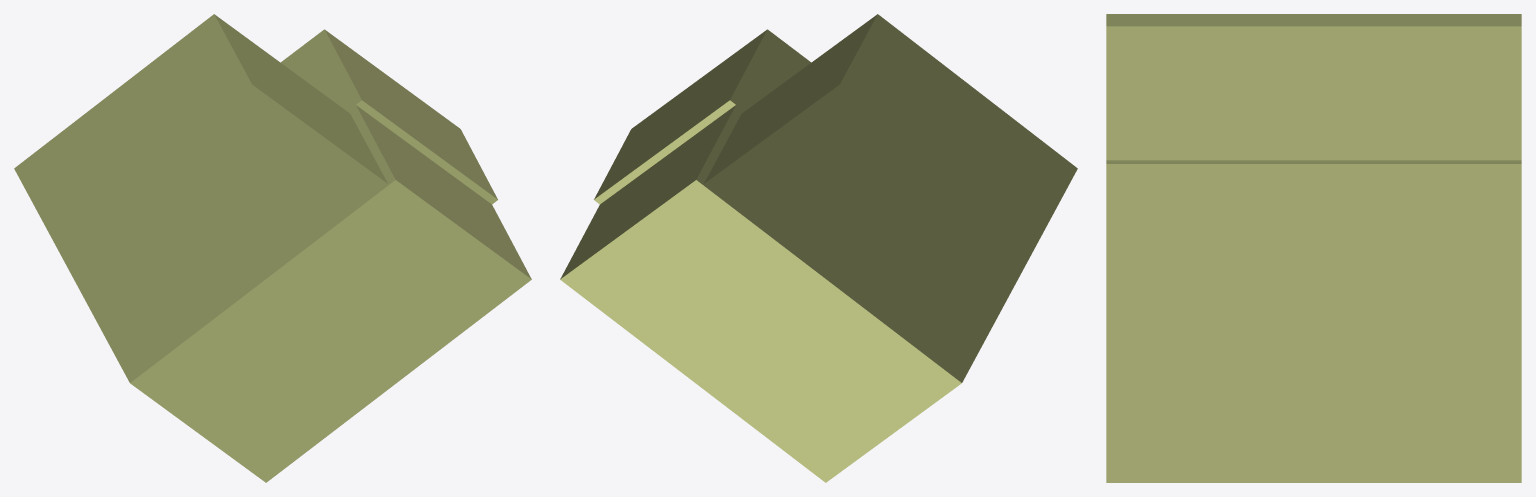
3 renders of one model, left to right at view 1: azimuth 30°, elevation 25°; view 2: azimuth 150°, elevation 25°; view 3: azimuth 270°, elevation 25°, orthographic. The views are drawn at different scales.
Parts seen in each view (by area): view 1: 0_1_2_0_3_3_0_2_1_0; view 2: 0_1_2_0_3_3_0_2_1_0; view 3: 0_1_2_0_3_3_0_2_1_0.
Part boxes in pixels (left/top/right/bottom): 0_1_2_0_3_3_0_2_1_0: left=14, top=14, right=531, bottom=482; 0_1_2_0_3_3_0_2_1_0: left=560, top=14, right=1077, bottom=482; 0_1_2_0_3_3_0_2_1_0: left=1106, top=14, right=1521, bottom=482.
Bounding box in the file's own units: 14.56 × 12.71 × 9.
